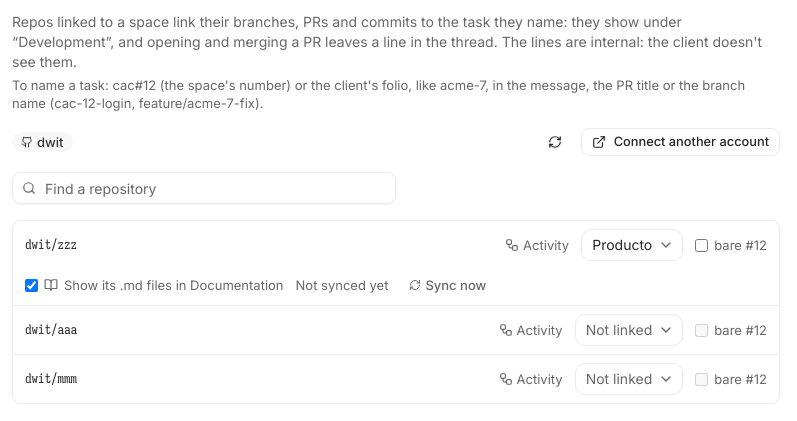
Test case: muchos repos › se buscan por nombre, y los atados van primero
The width and height of the screenshot is (797, 421).
Expected: the dropdown named "dwit/aaa" is shown, x1=575 y1=314 x2=683 y2=346
Type "MM" into the search field labelled "Find a repository".
click(204, 188); type("MM")  # box x1=12 y1=172 x2=396 y2=204
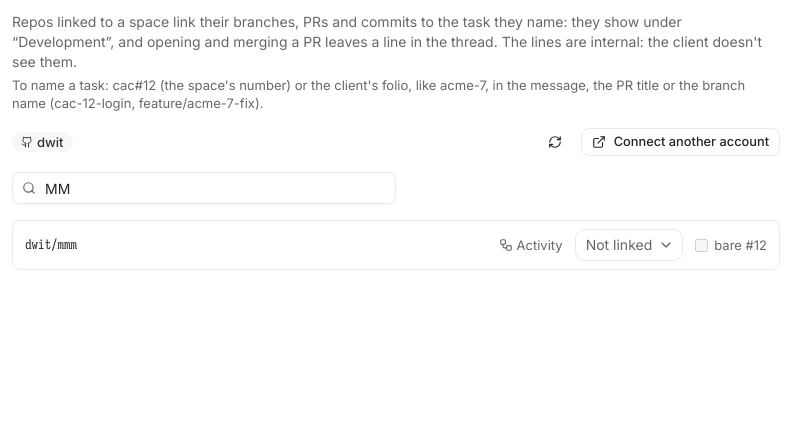
Replace the text in the search field named "Find a repository" with "nada" at [204, 188], box x1=12 y1=172 x2=396 y2=204
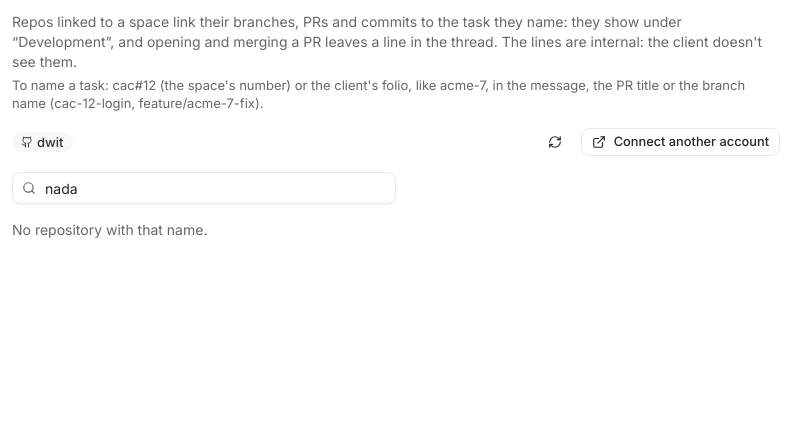
Now the text "No repository with that name." is shown, box x1=12 y1=221 x2=207 y2=238
